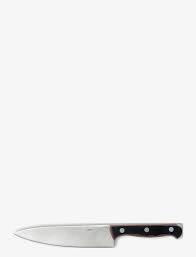Knife: (11, 222, 183, 248)
